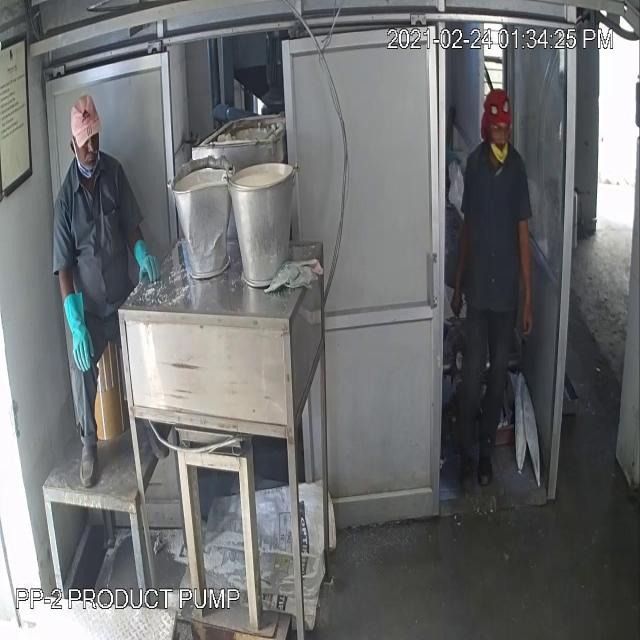no-helmet: (64, 87, 107, 155), (476, 76, 517, 142)
